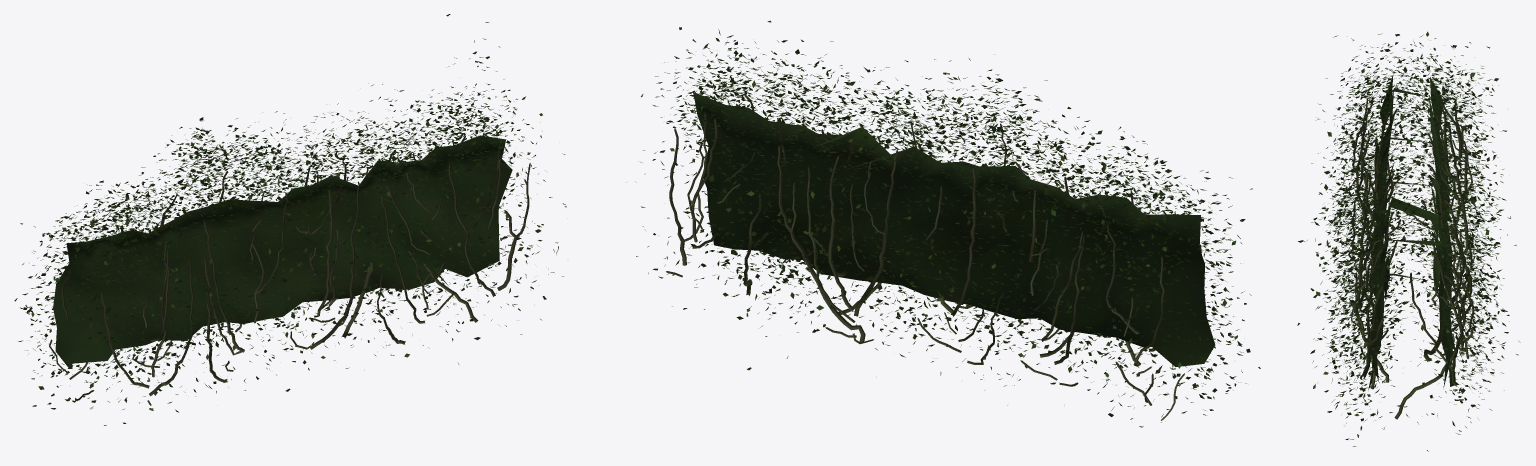
Rendered from SM_Tree_hedge_3.glb.
3 views of the same model, side by side, from view 1: azimuth 30°, elevation 25°; view 2: azimuth 150°, elevation 25°; view 3: azimuth 270°, elevation 25° (orthographic). The views are drawn at different scales.
Parts seen in each view (by area): view 1: SM_Tree_hedge_3; view 2: SM_Tree_hedge_3; view 3: SM_Tree_hedge_3.
Boxes of the visible parts, x1,y1,x2,y2 form: SM_Tree_hedge_3: (14, 14, 566, 425); SM_Tree_hedge_3: (636, 20, 1260, 427); SM_Tree_hedge_3: (1297, 31, 1520, 451).
Bounding box in the file's own units: 4.82 × 2.77 × 1.81.
